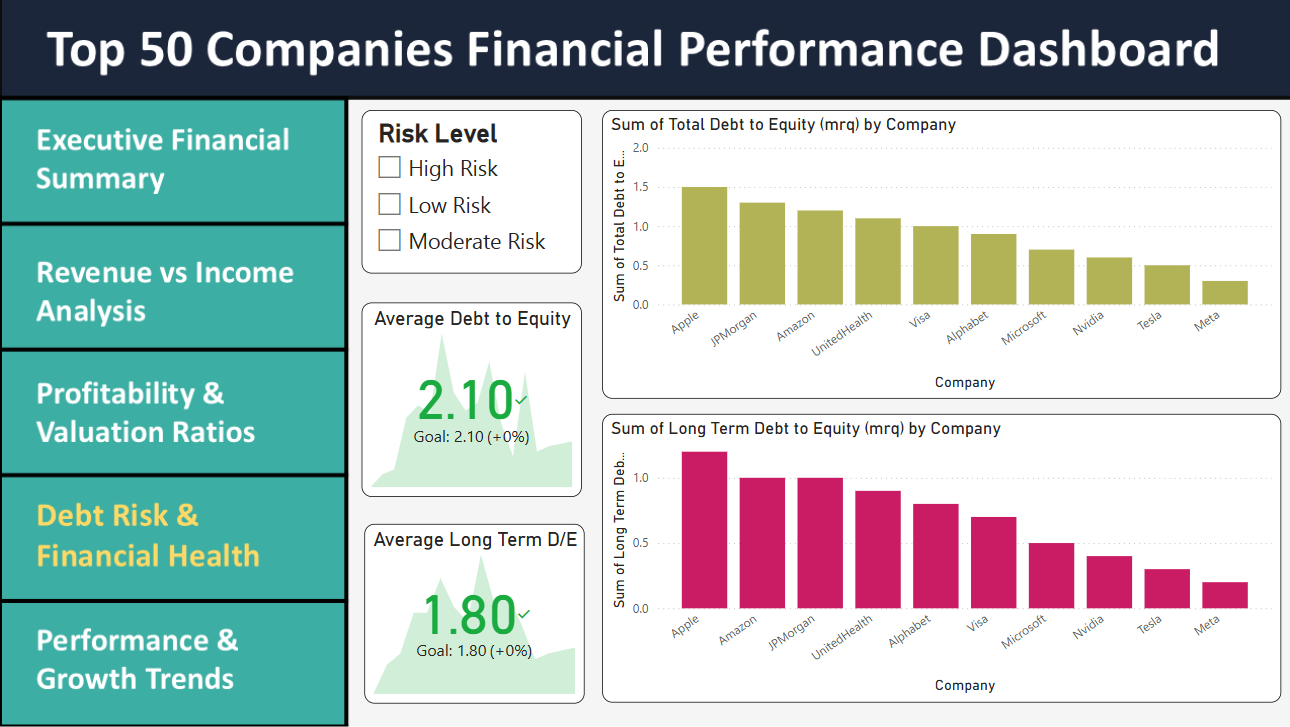

This screenshot's page, from the dashboard's own definition file:
{"tool":"powerbi","page":{"name":"Debt Risk & Financial Health","canvas":[1280,720],"ordinal":3},"visuals":[{"type":"actionButton","box":[20.6,108.6,291.6,97.6],"z":0},{"type":"actionButton","box":[20.6,232.4,291.6,97.6],"z":1000},{"type":"actionButton","box":[20.6,360.3,291.6,97.6],"z":2000},{"type":"actionButton","box":[20.6,482.7,291.6,97.6],"z":3000},{"type":"actionButton","box":[20.6,607.9,291.6,97.6],"z":4000},{"type":"columnChart","fields":{"Category":["50_Company_Financial_Data.Company"],"Y":["Sum(50_Company_Financial_Data.Total Debt to Equity (mrq))"]},"box":[594.7,108,670.5,285.3],"z":5000},{"type":"columnChart","fields":{"Category":["50_Company_Financial_Data.Company"],"Y":["Sum(50_Company_Financial_Data.Long Term Debt to Equity (mrq))"]},"box":[594.7,409.4,670.5,285.3],"z":6000},{"type":"slicer","fields":{"Values":["50_Company_Financial_Data.Risk Level"]},"box":[357.8,108,217.6,161.2],"z":7000},{"type":"kpi","title":"Average Debt to Equity","fields":{"Indicator":["Sum(50_Company_Financial_Data.Total Debt to Equity (mrq))"],"TrendLine":["50_Company_Financial_Data.Total Debt to Equity (mrq)"],"Goal":["Sum(50_Company_Financial_Data.Total Debt to Equity (mrq))"]},"box":[357.8,298.2,217.6,191.8],"z":8000},{"type":"kpi","title":"Average Long Term D/E","fields":{"Indicator":["Sum(50_Company_Financial_Data.Long Term Debt to Equity (mrq))"],"TrendLine":["50_Company_Financial_Data.Long Term Debt to Equity (mrq)"],"Goal":["Sum(50_Company_Financial_Data.Long Term Debt to Equity (mrq))"]},"box":[359.4,517.4,217.6,177.3],"z":9000}]}

Visuals, with their boxes in screenshot pixels (x1, y1, x2, y2), scaled from the page's 1280x720 canvas onto the 1290x727 screenshot:
actionButton: <bbox>21, 110, 315, 208</bbox>
actionButton: <bbox>21, 235, 315, 333</bbox>
actionButton: <bbox>21, 364, 315, 462</bbox>
actionButton: <bbox>21, 487, 315, 586</bbox>
actionButton: <bbox>21, 614, 315, 712</bbox>
columnChart - 50_Company_Financial_Data.Company x Sum(50_Company_Financial_Data.Total Debt to Equity (mrq)): <bbox>599, 109, 1275, 397</bbox>
columnChart - 50_Company_Financial_Data.Company x Sum(50_Company_Financial_Data.Long Term Debt to Equity (mrq)): <bbox>599, 413, 1275, 701</bbox>
slicer - 50_Company_Financial_Data.Risk Level: <bbox>361, 109, 580, 272</bbox>
"Average Debt to Equity" kpi: <bbox>361, 301, 580, 495</bbox>
"Average Long Term D/E" kpi: <bbox>362, 522, 582, 701</bbox>
